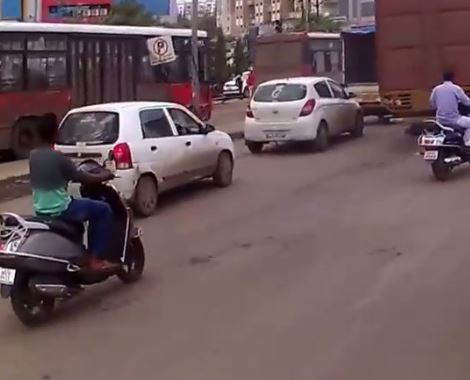car: (56, 100, 251, 217), (242, 72, 374, 169)
